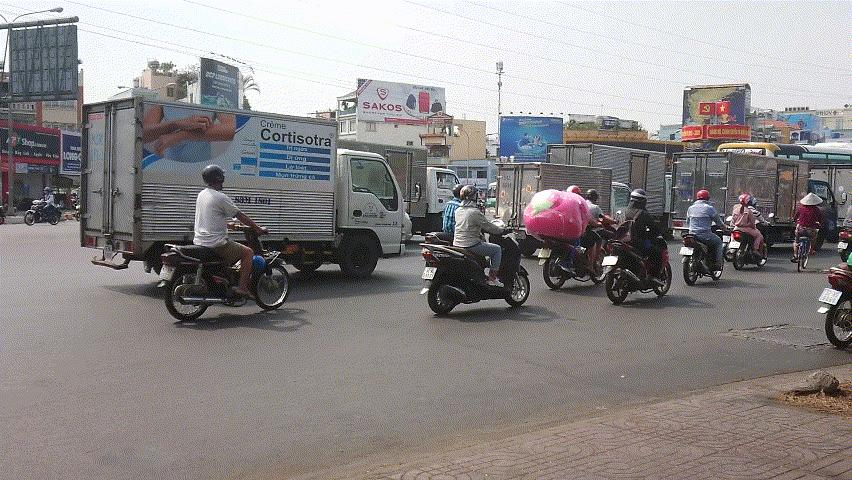bicyclist: (791, 191, 824, 272)
driver: (156, 165, 291, 323), (420, 186, 532, 317), (525, 183, 621, 289), (599, 188, 671, 306), (679, 189, 735, 286), (729, 193, 774, 270)
helmet: (201, 164, 227, 192), (460, 185, 479, 206), (630, 189, 647, 206), (696, 189, 710, 203), (585, 188, 598, 202), (739, 193, 751, 206)
no-helmet: (800, 192, 823, 207)
